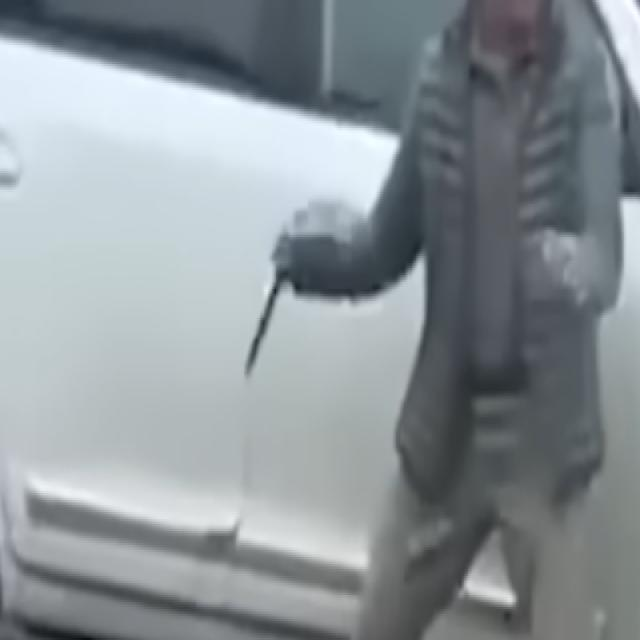Fknife: (242, 236, 292, 395)
